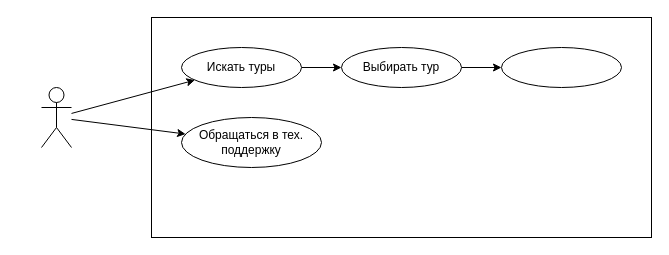
Some shapes in this 669 by 255 pixel diagram are drawn without their labels. Each missing label, with the box of its shape:
Оформлять тур: (500, 46, 622, 88)
Пользователь: (40, 86, 72, 148)
